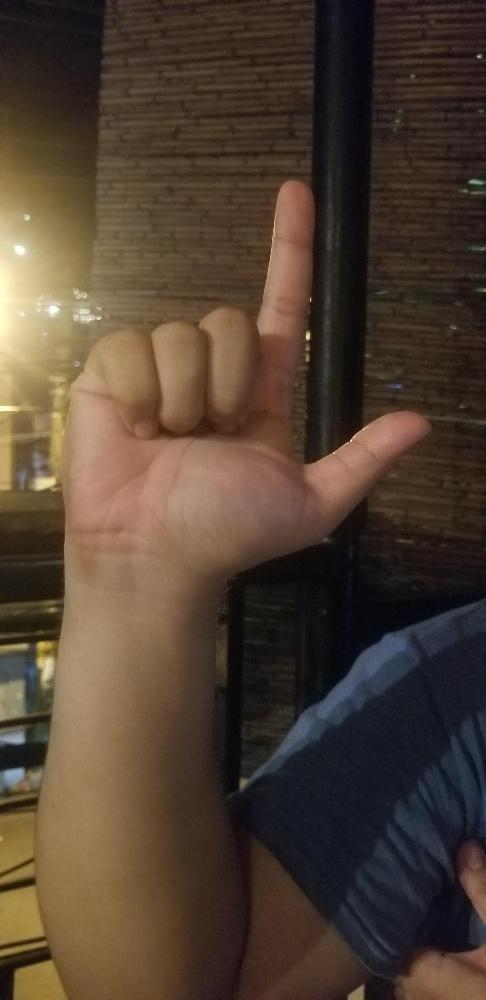l: (61, 176, 436, 573)
